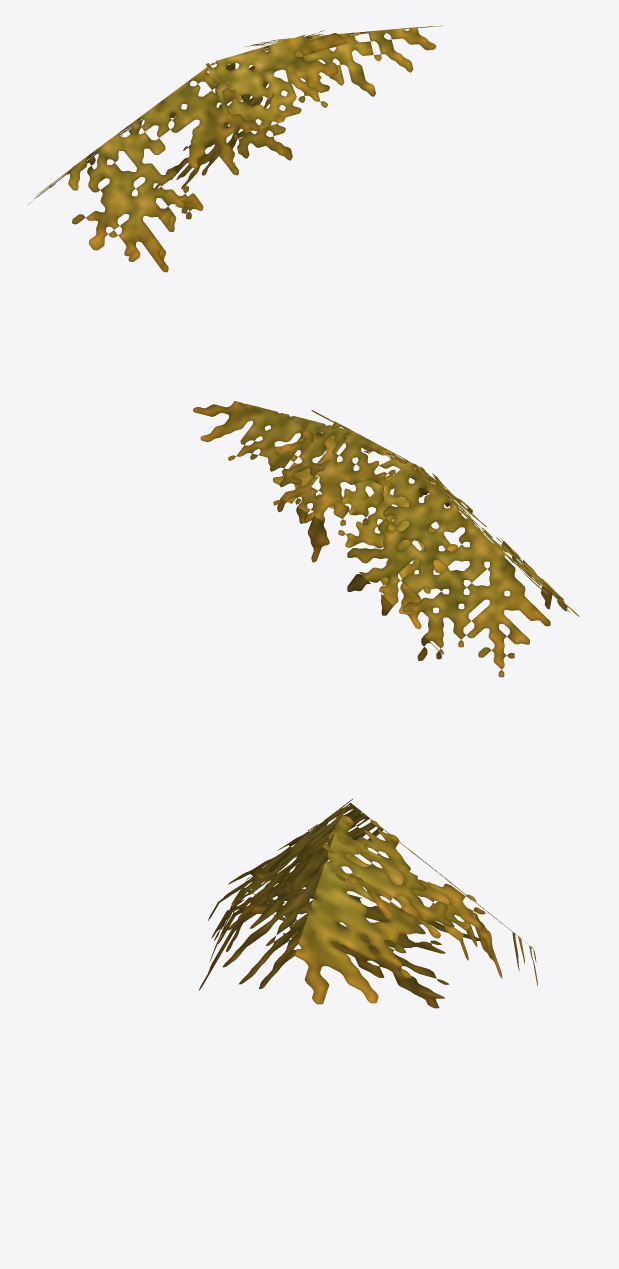
Rendered from larch_leaves_slab_2.obj.
The picture shows the model from 3 angles, top to bottom: view 1: azimuth 30°, elevation 25°; view 2: azimuth 150°, elevation 25°; view 3: azimuth 270°, elevation 25°; orthographic projection. The views are drawn at different scales.
Parts seen in each view (by area): view 1: plane, cube; view 2: plane, cube; view 3: plane, cube.
Boxes of the visible parts, x1,y1,x2,y2 form: plane: (28,25,442,272); cube: (154,66,274,188); plane: (193,401,579,677); cube: (300,457,461,629); plane: (198,799,537,1004); cube: (239,872,481,1008).
Size of the model in its own units: 2.93 by 1.34 by 1.7.
